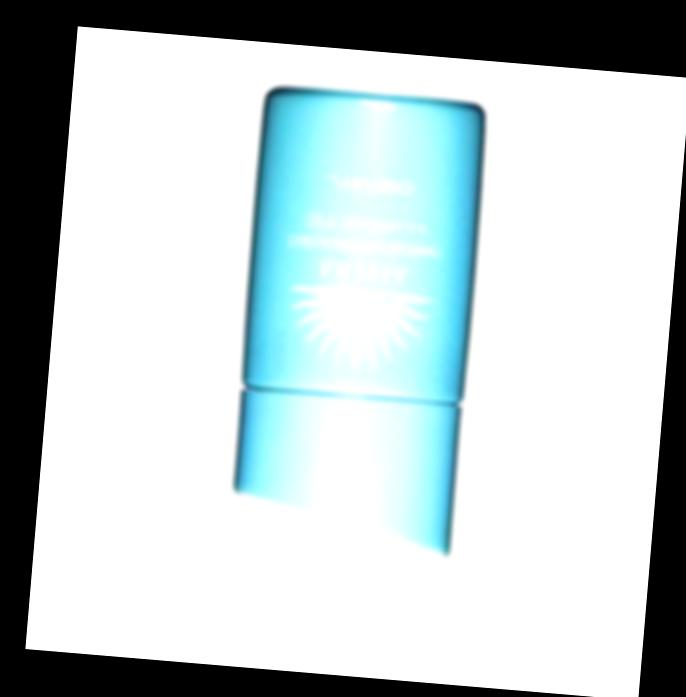cosmetic: (226, 84, 493, 561)
